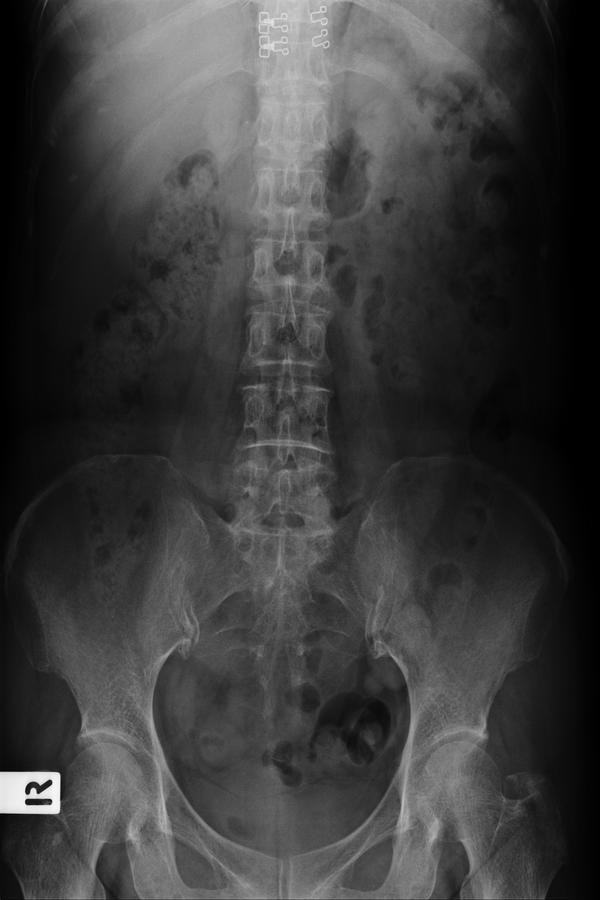lumbar scoliosis: (231, 8, 344, 542)
